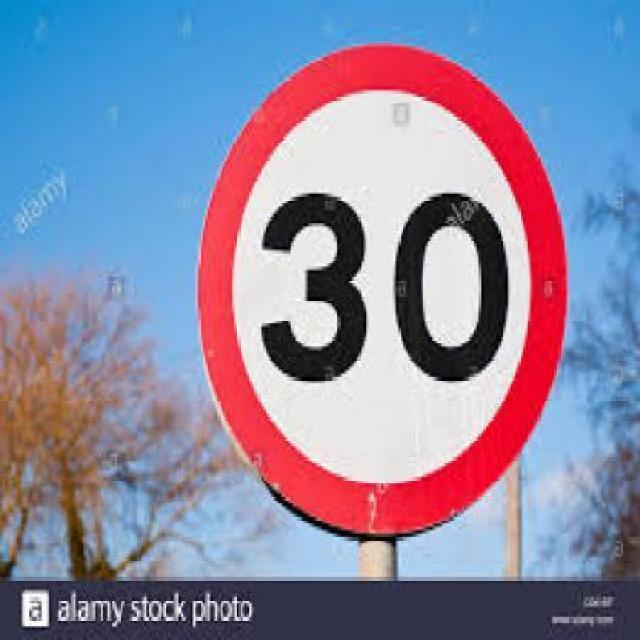traffic_sign: (210, 59, 552, 527)
